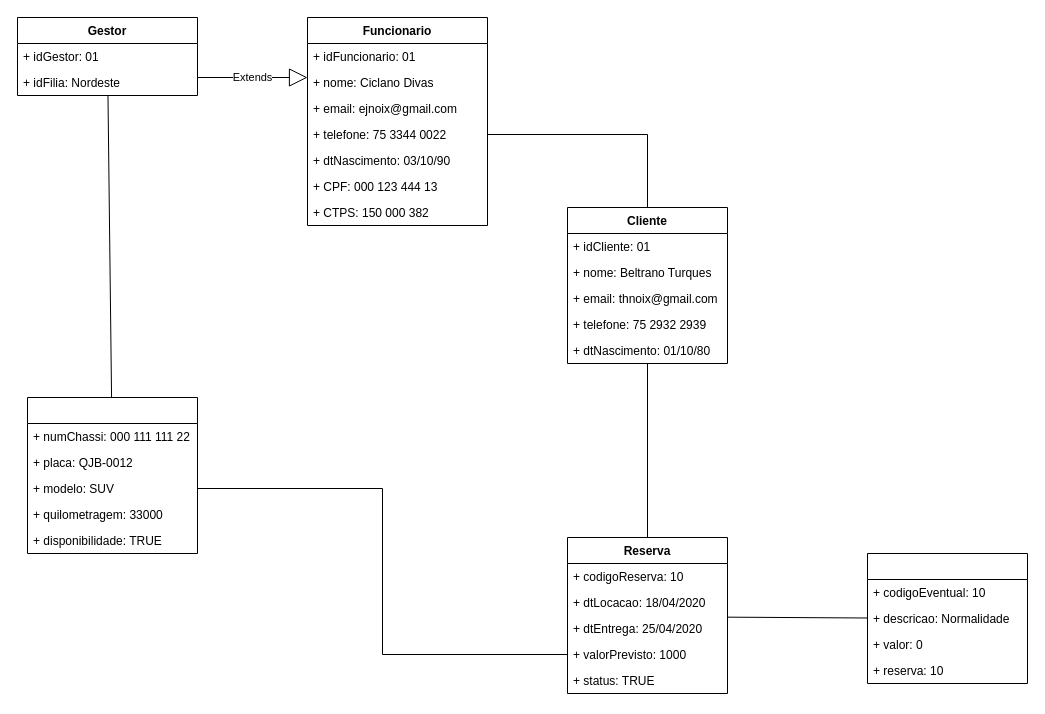
Image size: 1045x714. Some labels were removed from this diagram. The shapes that lost their labels are listed below. From the top down, each one's box as (x1, y1, x2, y2) in pixels, then its label:
(26, 396, 198, 554): Veículo
(866, 552, 1028, 684): Eventuais
